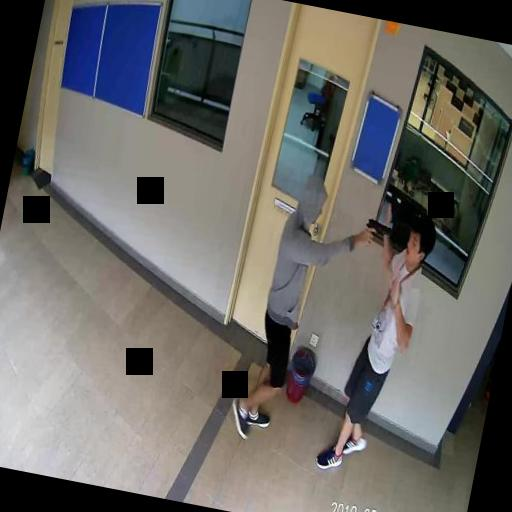Handgun: (361, 216, 391, 248)
